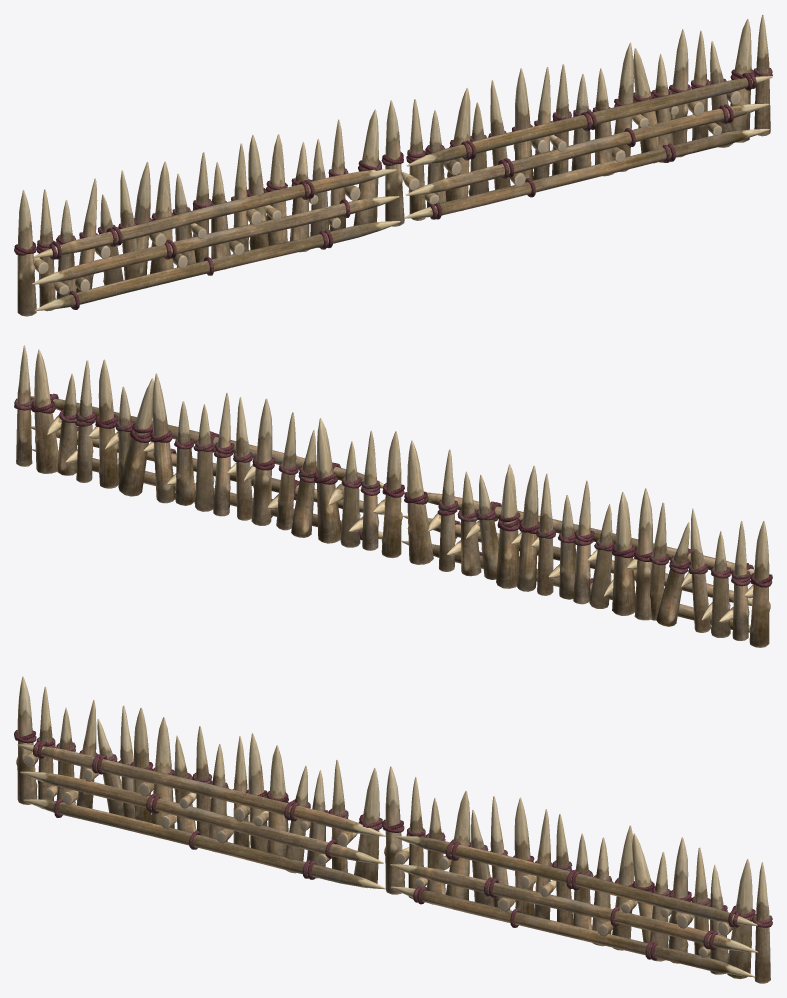
The picture shows the model from 3 angles, top to bottom: view 1: azimuth 30°, elevation 25°; view 2: azimuth 150°, elevation 25°; view 3: azimuth 330°, elevation 25°; orthographic projection.
Visible parts, largest first — view 1: SM_Garou_Set_SM_SpikeFence_02_4X8_LOD0; view 2: SM_Garou_Set_SM_SpikeFence_02_4X8_LOD0; view 3: SM_Garou_Set_SM_SpikeFence_02_4X8_LOD0.
Boxes of the visible parts, <box> form: SM_Garou_Set_SM_SpikeFence_02_4X8_LOD0: <box>14,14,772,316</box>; SM_Garou_Set_SM_SpikeFence_02_4X8_LOD0: <box>14,345,772,647</box>; SM_Garou_Set_SM_SpikeFence_02_4X8_LOD0: <box>14,676,772,983</box>.
Bounding box in the file's own units: 8.03 × 1.29 × 0.4388.
Materials: 1 (1 with a texture image).
